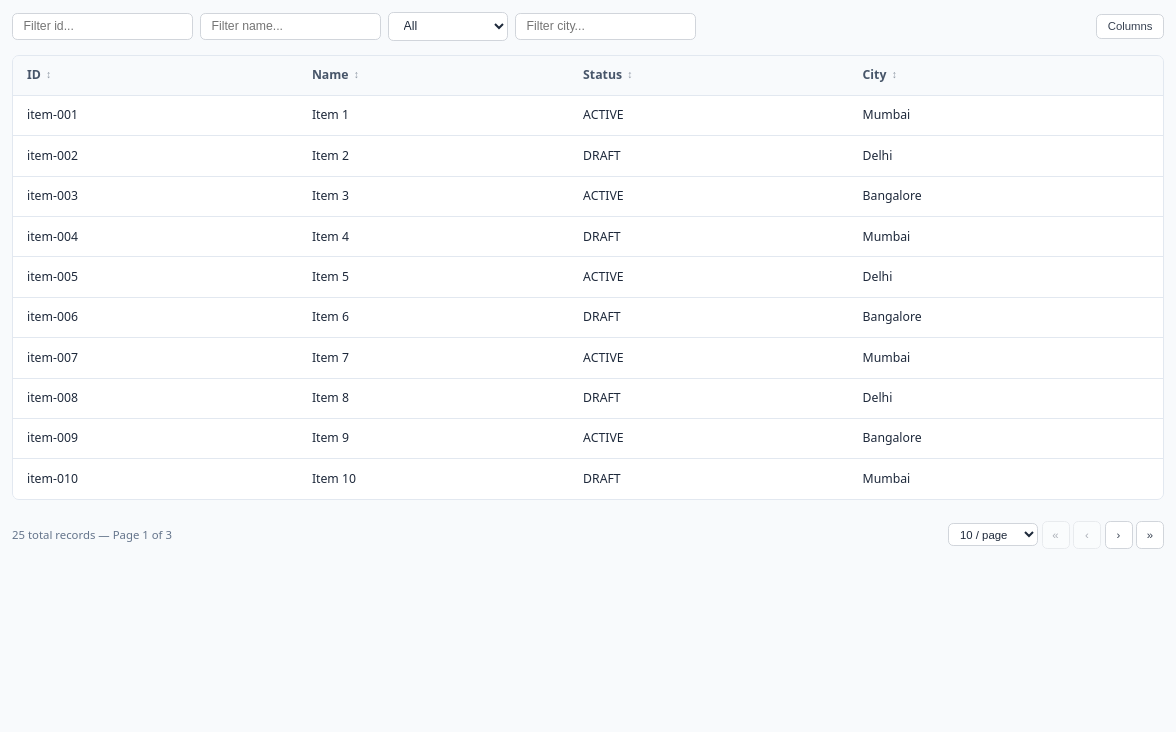
Scenario: DataTable › Pagination controls and page navigation › navigates to last page and disables Next/Last buttons
Expected: the text "25 total records — Page 1 of 3" is shown, [12,526,172,543]
Click the button named "Last page".
click(1150, 535)  # box [1136,521,1164,549]
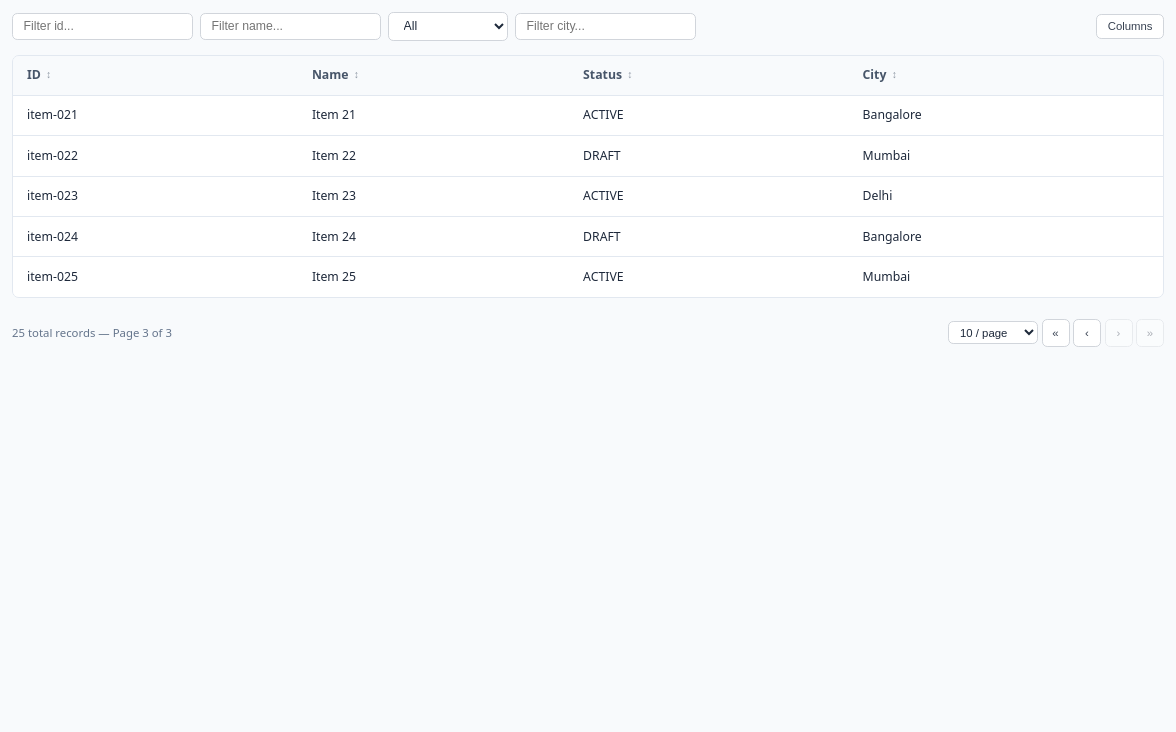
Result: the text "25 total records — Page 3 of 3" is shown at [12,324,172,341]
Result: the button named "First page" is enabled at [1042,319,1070,347]
Result: the button named "Previous page" is enabled at [1073,319,1101,347]
